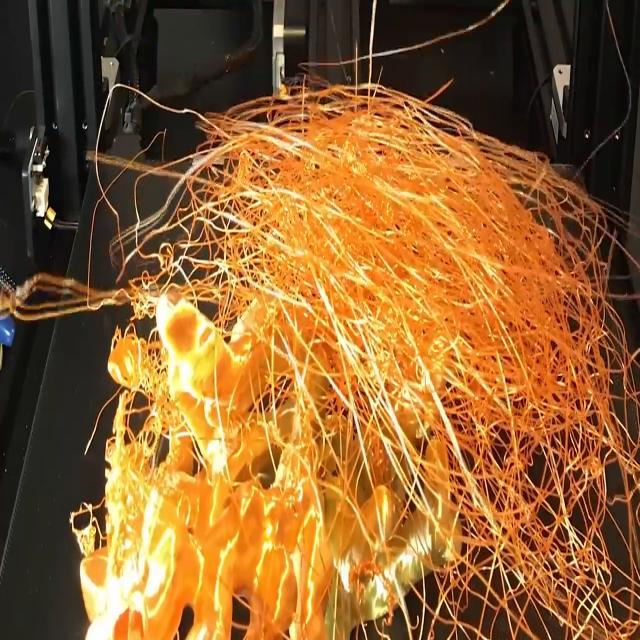spaghetti: (5, 49, 639, 640)
